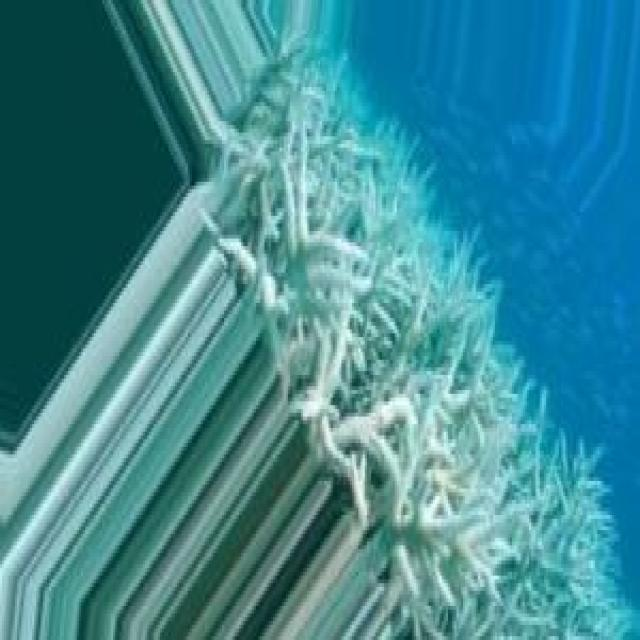Bleached: (204, 43, 624, 637)
